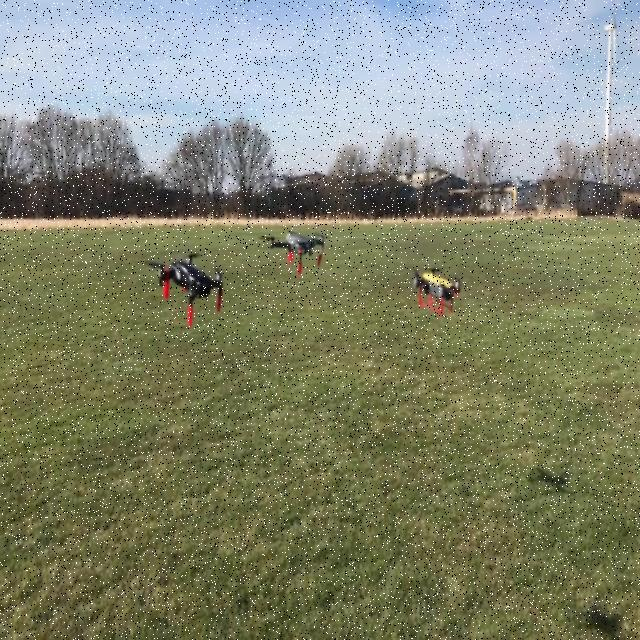UAV: (142, 252, 224, 328), (258, 229, 332, 275), (411, 268, 461, 318)
